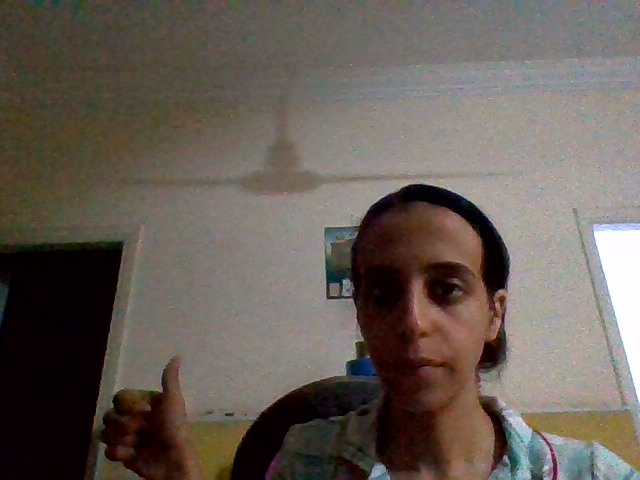ThumbsUp: (99, 352, 188, 475)
